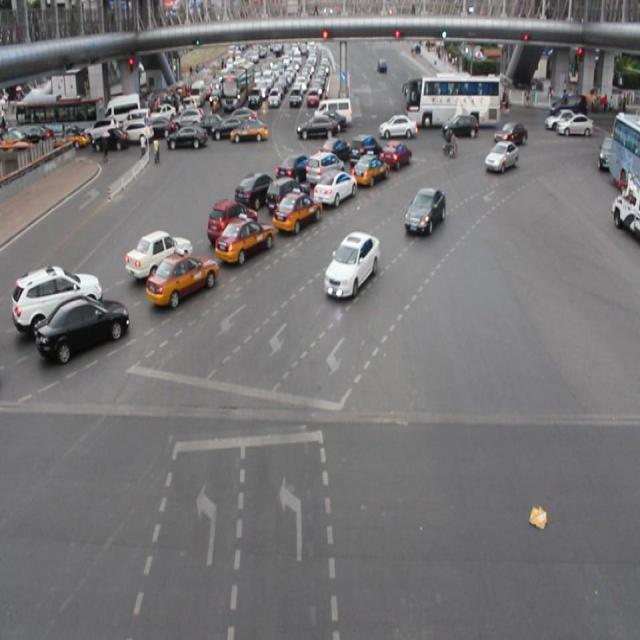car: (33, 296, 133, 367), (12, 264, 104, 334), (321, 229, 382, 302), (143, 254, 221, 307), (123, 227, 194, 281), (213, 215, 276, 264), (205, 196, 258, 244), (402, 185, 447, 239), (270, 189, 322, 232), (263, 175, 311, 214), (312, 170, 358, 208), (349, 150, 392, 188), (304, 150, 344, 189), (234, 172, 277, 208), (482, 138, 520, 177), (274, 153, 315, 187), (347, 132, 382, 170), (377, 136, 412, 173), (317, 134, 353, 168)
